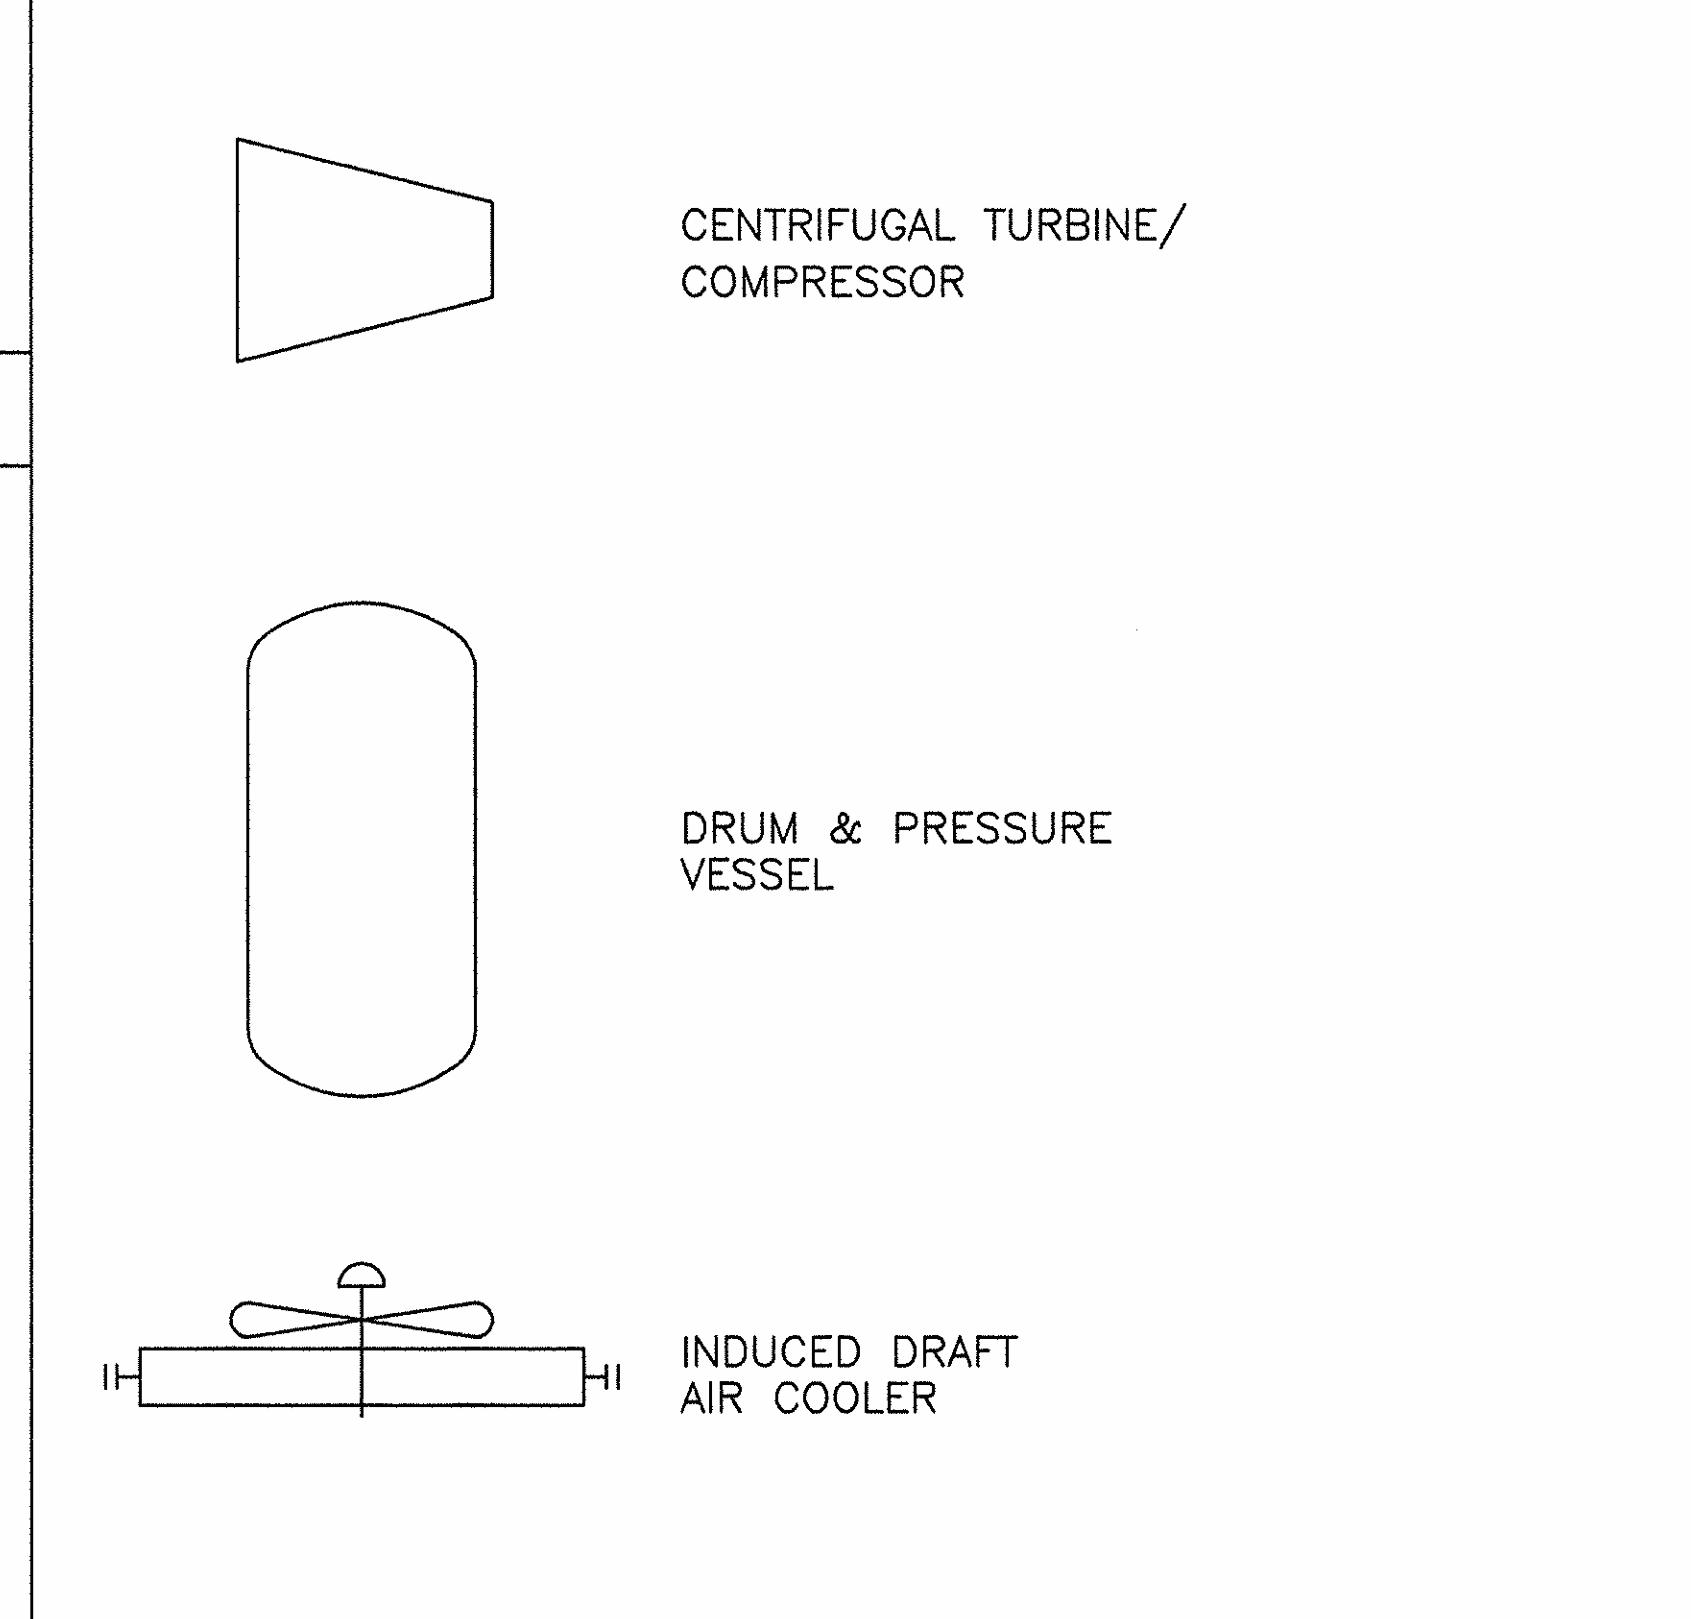COMPRESSOR: (222, 127, 512, 373)
DRUM AND PRESSURE VESSEL: (228, 591, 498, 1107)
INDUCED DRAFT AIR COOLER: (98, 1243, 625, 1423)
